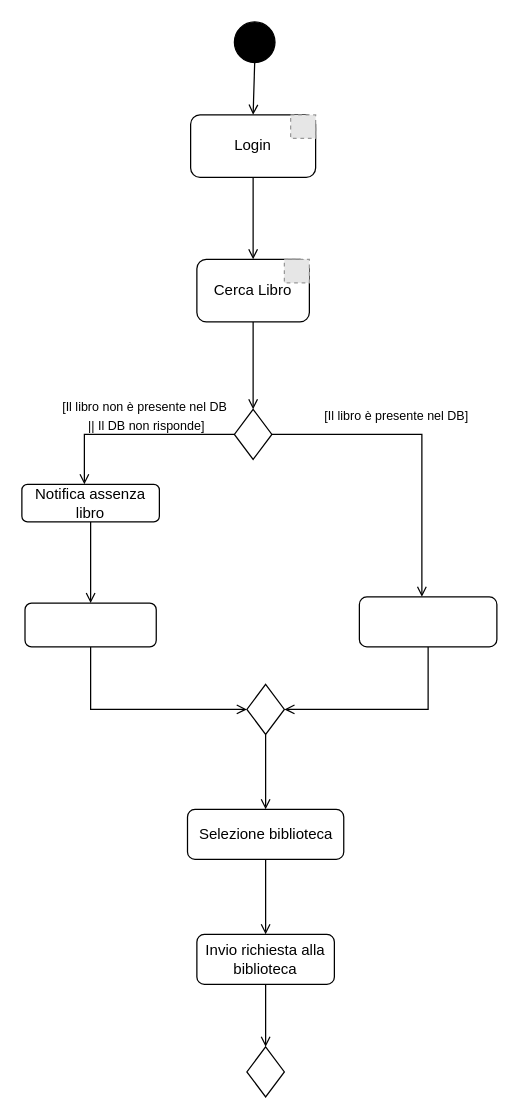
Some shapes in this 519 by 1119 pixel diagram are drawn without their labels. Grey dashed boxes stand in for pictures. Here are the shapes that lost their labels. From the top down, the centre of each, then its label:
At (90,624): "Insierimento manuale dati libro".
At (427,621): "Inserimento automatico dati libro".
